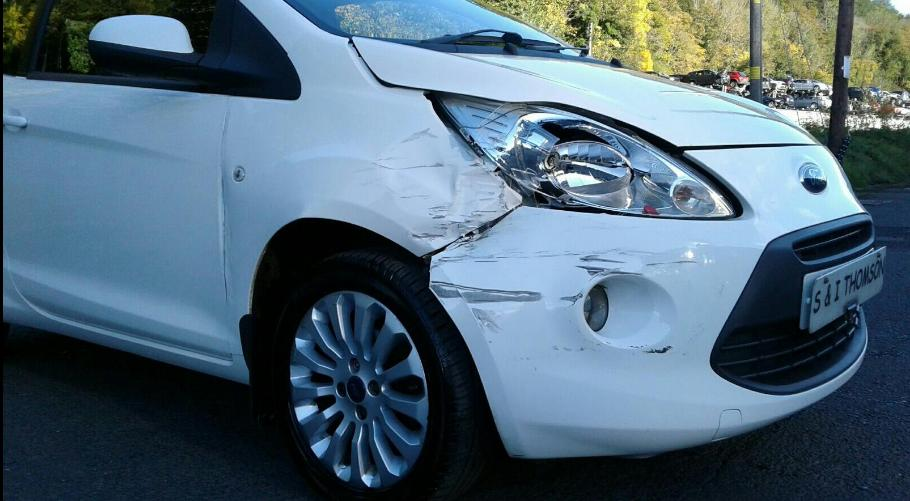Fender: (223, 20, 517, 358)
Front-bumper: (425, 146, 868, 458)
Front-door: (0, 0, 300, 360)
Front-wheel: (254, 239, 470, 500)
Front-window: (0, 0, 299, 101)
Grille: (712, 216, 875, 396)
Headlight: (430, 91, 745, 229)
Hood: (348, 35, 815, 149)
License-plate: (800, 248, 888, 329)
Mirror: (84, 11, 203, 72)
Rocker-panel: (1, 272, 250, 383)
Windshield: (291, 0, 556, 41)
